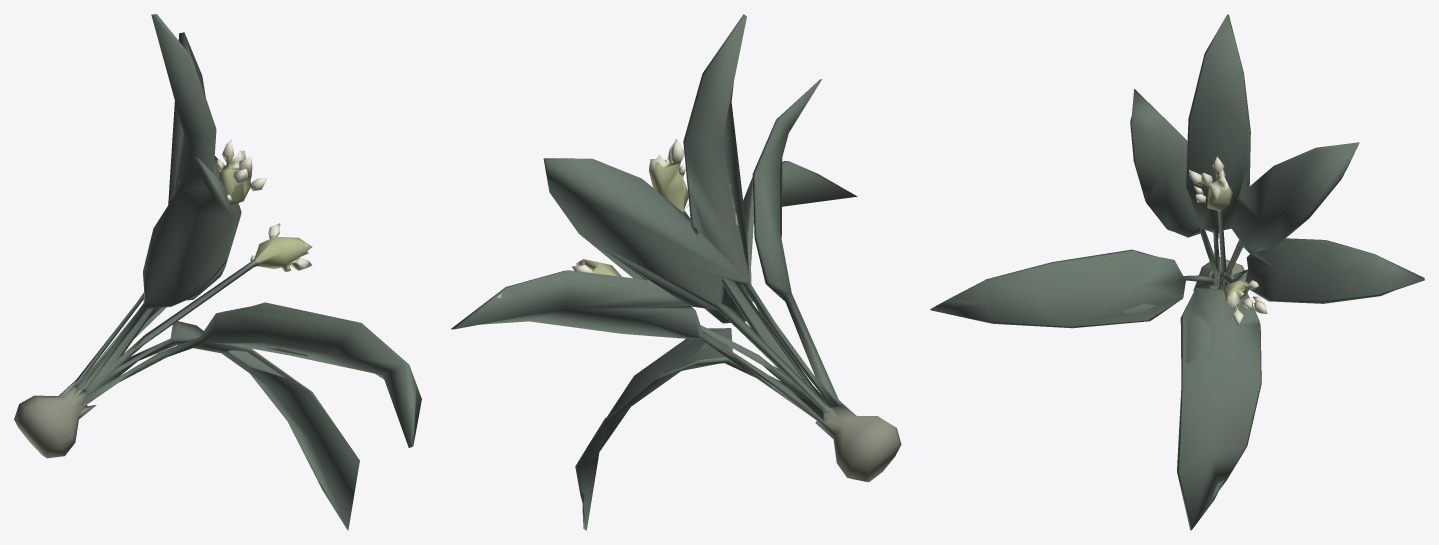
File: tripo_convert_2edae0b8-6162-4522-b8b0-e23314e4eded.fbx
The picture shows the model from 3 angles, left to right: view 1: azimuth 30°, elevation 25°; view 2: azimuth 150°, elevation 25°; view 3: azimuth 270°, elevation 25°; orthographic projection. The views are drawn at different scales.
Parts seen in each view (by area): view 1: tripo_node_2edae0b8; view 2: tripo_node_2edae0b8; view 3: tripo_node_2edae0b8.
Part boxes in pixels (x1,y1,x2,y2): tripo_node_2edae0b8: [14, 14, 421, 530]; tripo_node_2edae0b8: [451, 14, 901, 530]; tripo_node_2edae0b8: [930, 14, 1424, 530].
Size of the model in its own units: 0.6072 by 0.9985 by 1.
1 material, 1 textured.
